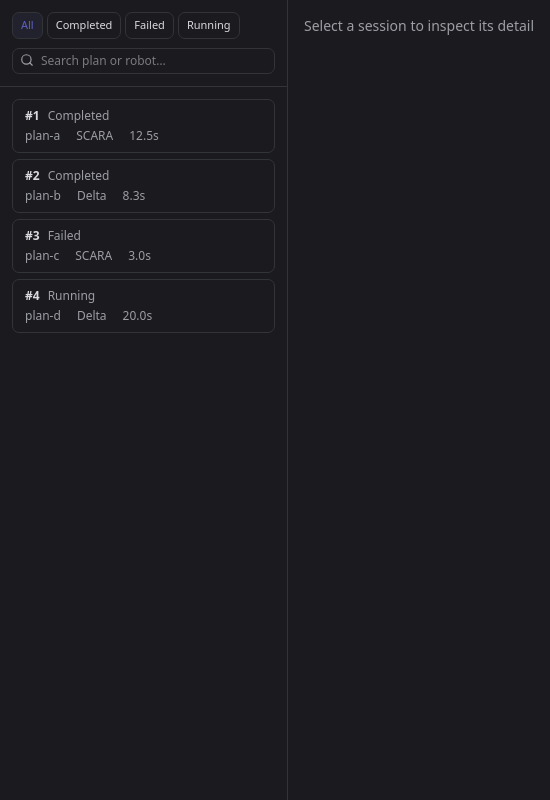
Test: SessionBrowser — presentation-only filters and search (C3) › searches plan_id case-insensitively with partial matching
Type "PLAN-A" into the search field labelled "Search plan or robot…" at (144, 60), box [12,48,275,74]
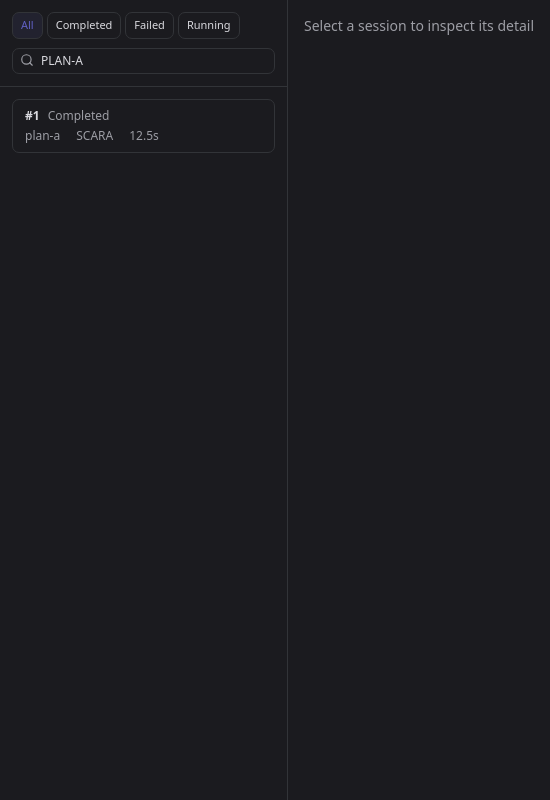
Check: the text "#1" is shown, box [25,108,40,124]
Check: the number of list items is 1, box [12,98,275,152]
